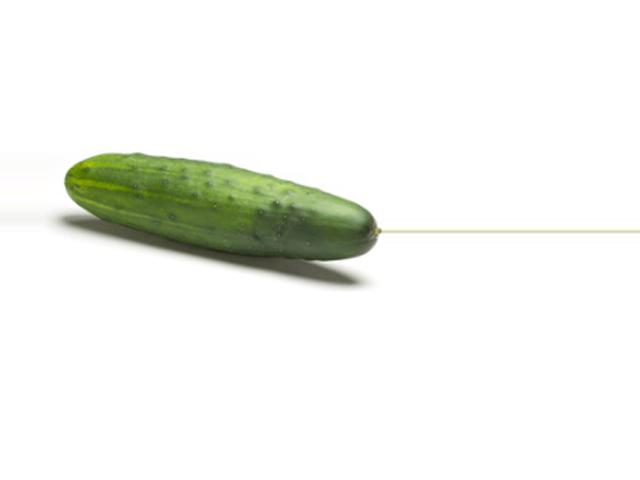cucumber: (65, 152, 382, 263)
